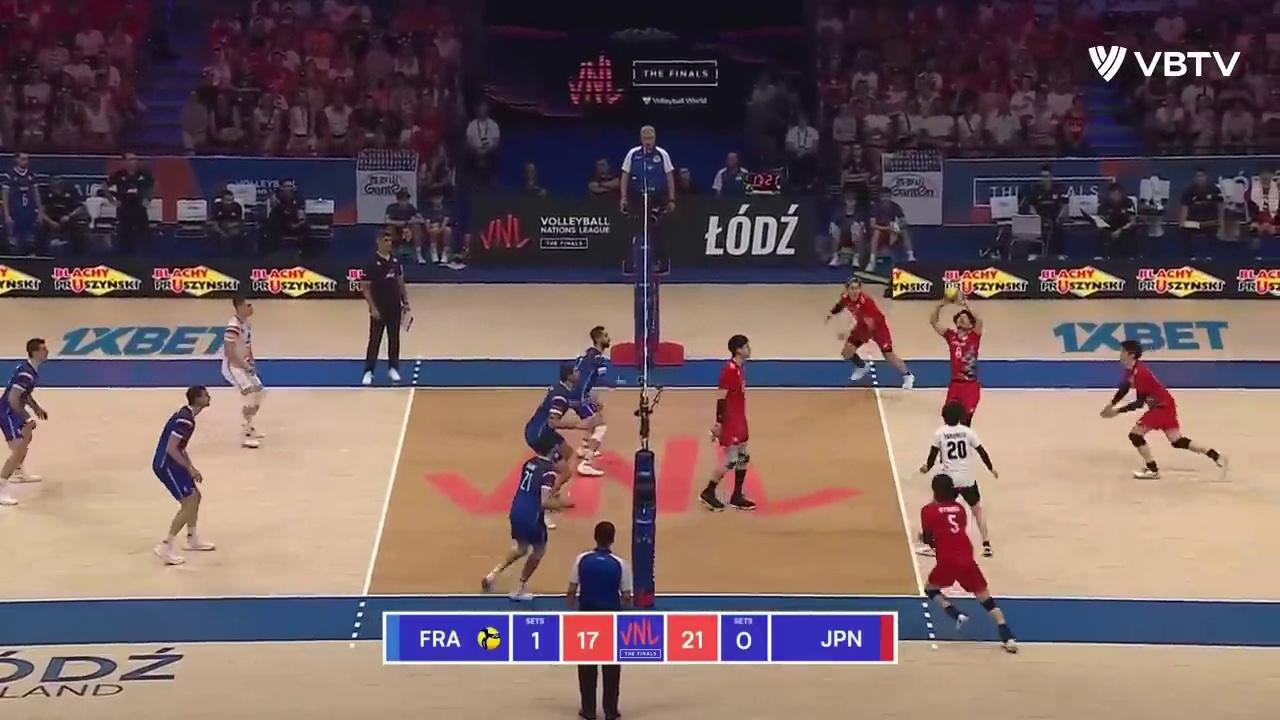ball: (944, 286, 960, 301)
